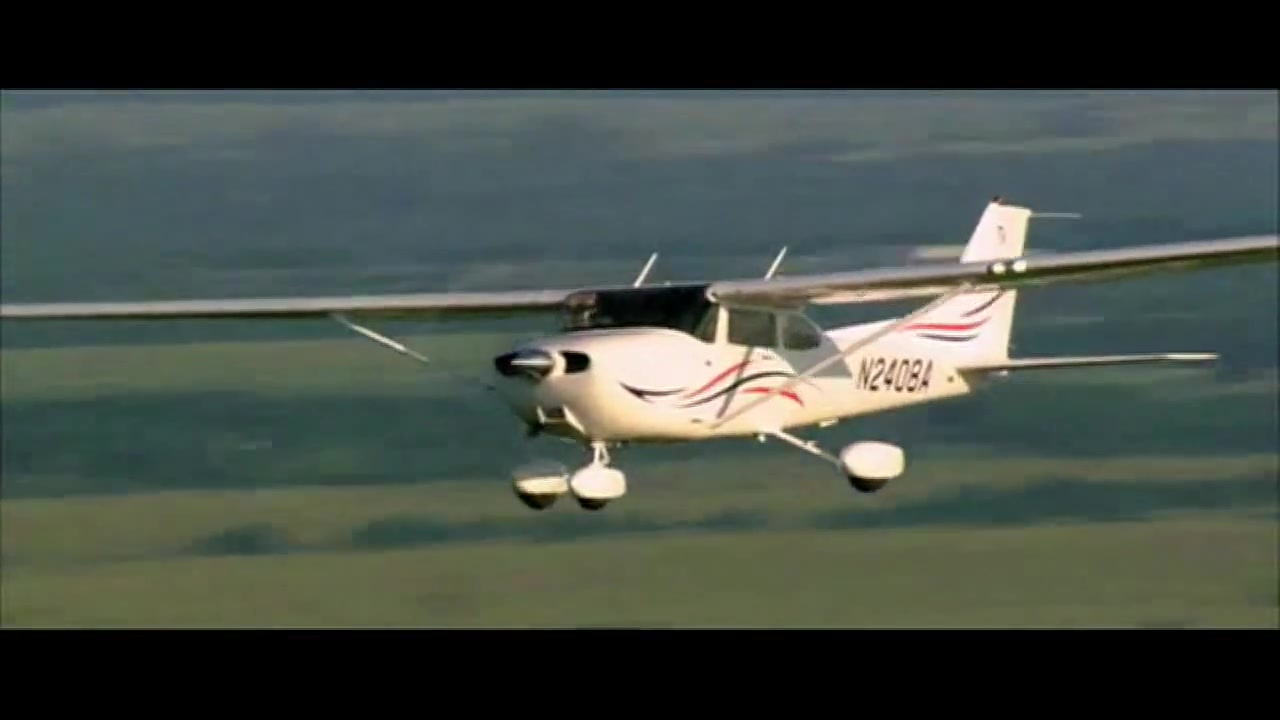aeroplane: (1, 199, 1280, 512)
